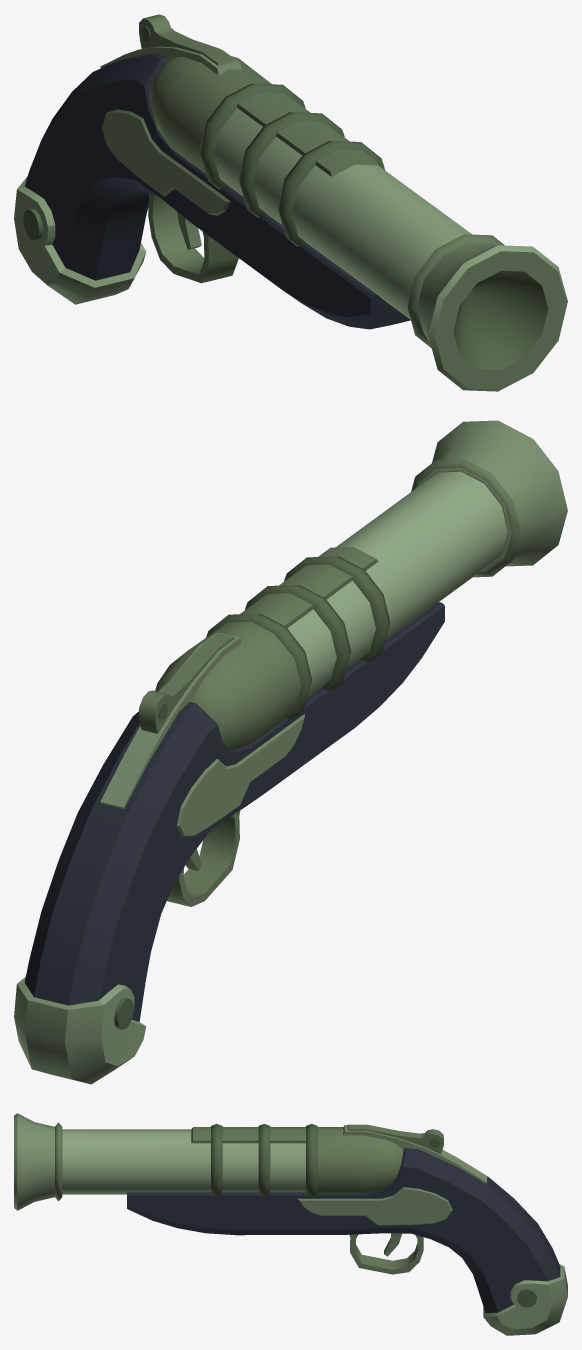
File: Weapon_ShotGun_01_G2_outline.fbx
The picture shows the model from 3 angles, top to bottom: view 1: azimuth 30°, elevation 25°; view 2: azimuth 150°, elevation 25°; view 3: azimuth 270°, elevation 25°; orthographic projection. The views are drawn at different scales.
Visible parts, largest first — view 1: Weapon_ShotGun_02; view 2: Weapon_ShotGun_02; view 3: Weapon_ShotGun_02.
Boxes of the visible parts, bbox=[...] form: Weapon_ShotGun_02: bbox=[14, 14, 567, 391]; Weapon_ShotGun_02: bbox=[14, 420, 567, 1084]; Weapon_ShotGun_02: bbox=[14, 1113, 567, 1335].
Bounding box in the file's own units: 1.26 × 3.02 × 7.14.
